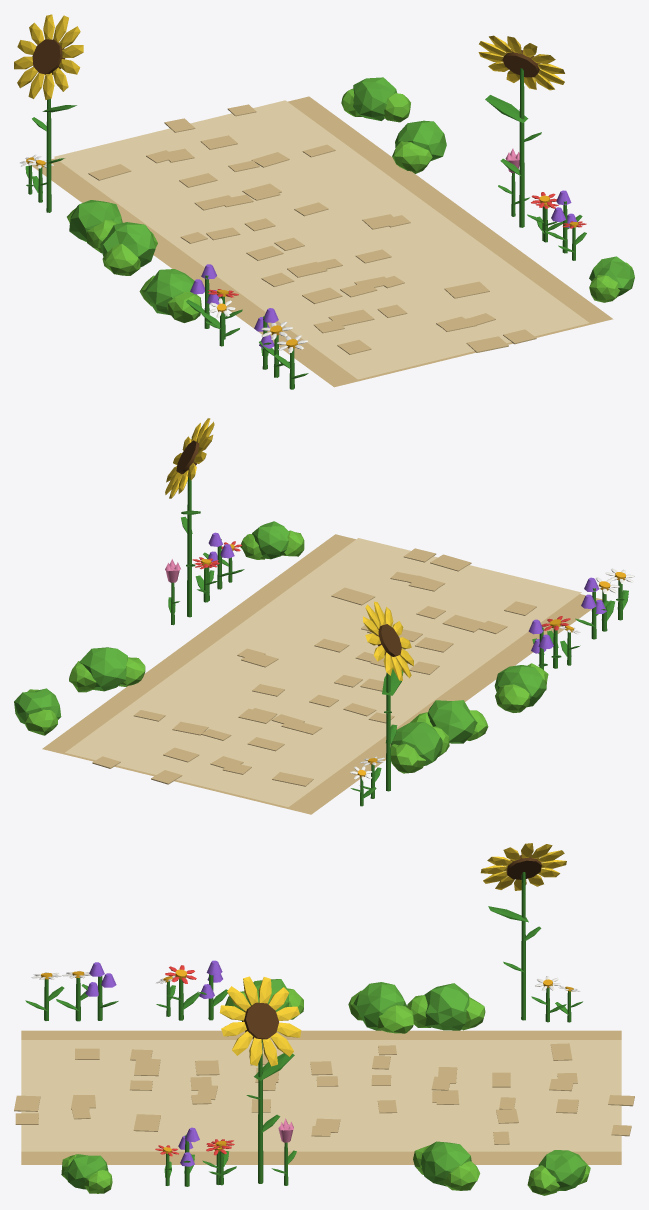
Rendered from camino_recto.glb.
3 views of the same model, one above another, from view 1: azimuth 30°, elevation 25°; view 2: azimuth 150°, elevation 25°; view 3: azimuth 270°, elevation 25° (orthographic). The views are drawn at different scales.
Parts seen in each view (by area): view 1: suelo, borde, adoquines, bola_1 (×6), bola_2 (×4), centro (×2), tallo (×2), bola_3; view 2: suelo, borde, adoquines, bola_1 (×6), bola_3 (×4), tallo (×2), centro; view 3: suelo, borde, adoquines, bola_1 (×5), centro (×2), bola_2 (×2), tallo (×2), bola_3 (×2).
Boxes of the visible parts, bbox=[...] form: suelo: bbox=[54, 100, 589, 379]; borde: bbox=[32, 96, 613, 387]; adoquines: bbox=[88, 104, 536, 354]; bola_1 (×6): bbox=[69, 77, 634, 315]; bola_2 (×4): bbox=[167, 93, 620, 322]; centro (×2): bbox=[32, 39, 539, 77]; tallo (×2): bbox=[46, 68, 524, 227]; bola_3: bbox=[102, 244, 140, 275]; suelo: bbox=[65, 538, 581, 807]; borde: bbox=[42, 534, 602, 814]; adoquines: bbox=[92, 548, 536, 786]; bola_1 (×6): bbox=[14, 521, 546, 765]; bola_3 (×4): bbox=[25, 661, 529, 773]; tallo (×2): bbox=[187, 477, 390, 791]; centro: bbox=[375, 624, 401, 657]; suelo: bbox=[21, 1040, 621, 1151]; borde: bbox=[21, 1030, 621, 1164]; adoquines: bbox=[14, 1043, 634, 1144]; bola_1 (×5): bbox=[63, 982, 586, 1191]; centro (×2): bbox=[242, 854, 541, 1040]; bola_2 (×2): bbox=[377, 1005, 559, 1195]; tallo (×2): bbox=[258, 872, 525, 1183]; bola_3 (×2): bbox=[84, 1161, 480, 1193].
Bounding box in the file's own units: 7.63 × 3.73 × 10.35.
